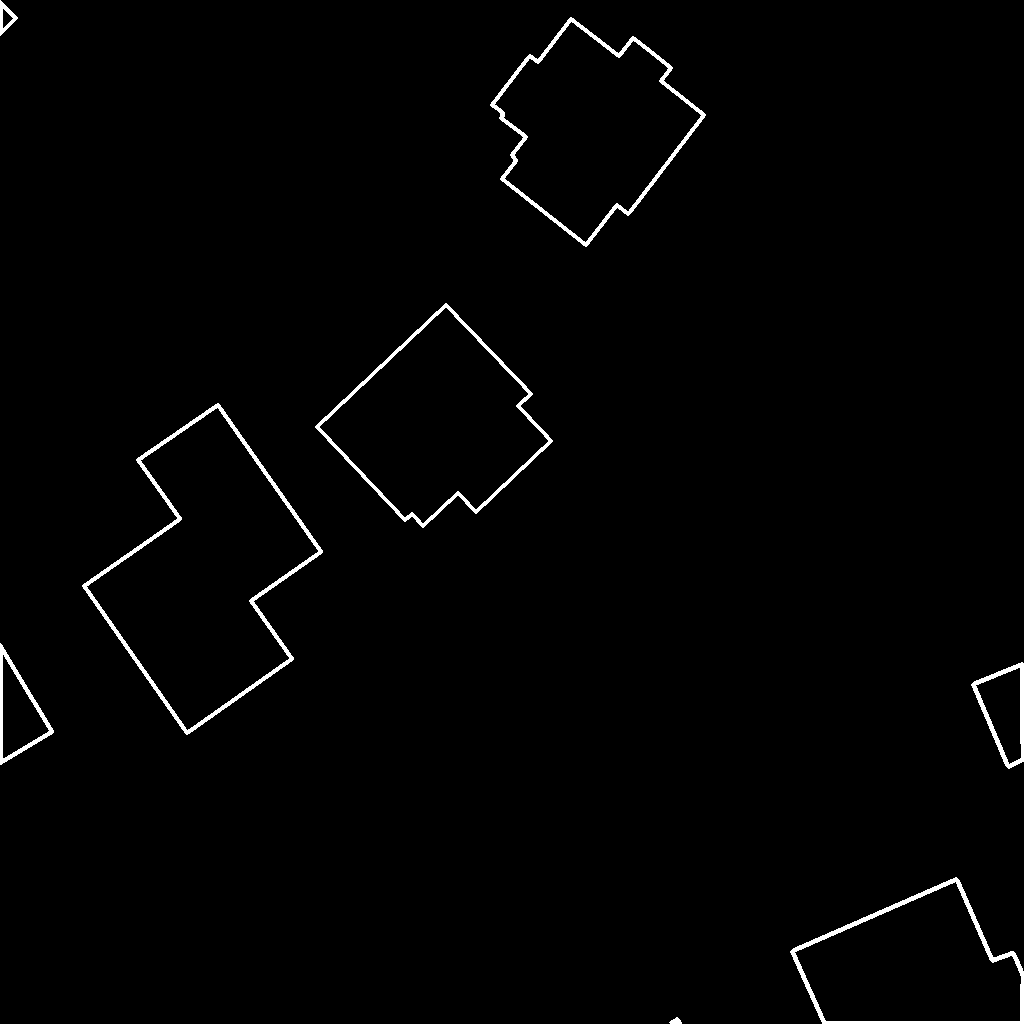building: (84, 405, 322, 734), (317, 305, 552, 527), (492, 19, 705, 246), (792, 879, 1024, 1024), (0, 645, 53, 764), (973, 664, 1024, 768), (0, 2, 17, 35), (671, 1019, 681, 1024)
